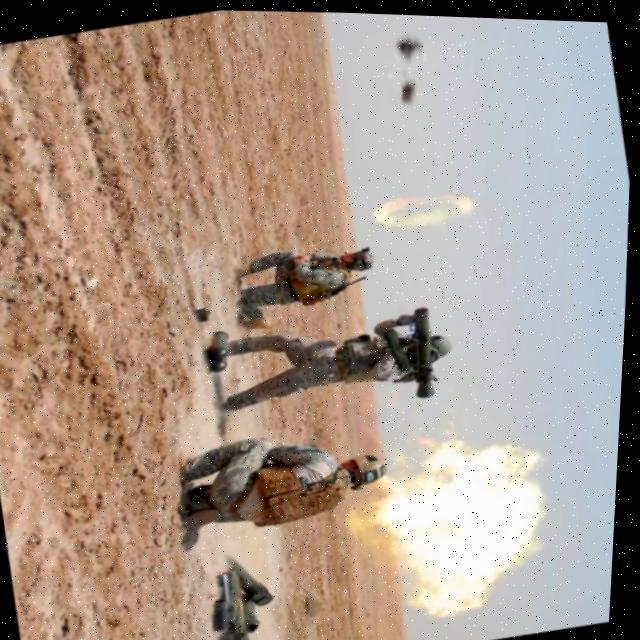rocket: (395, 296, 452, 402)
